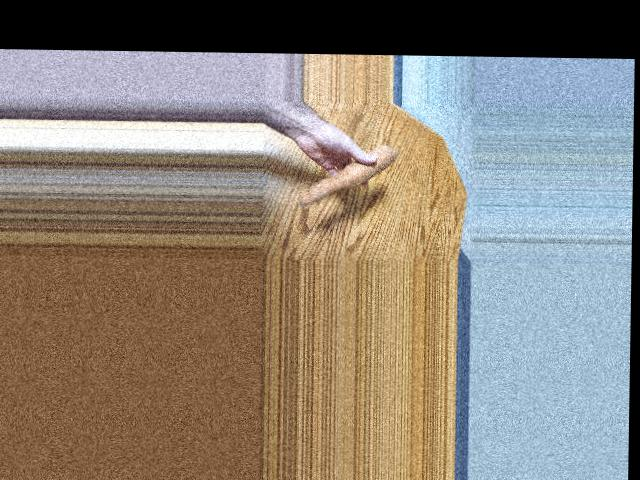sweet_potato: (300, 147, 407, 200)
